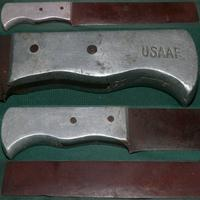knife: (8, 110, 196, 153), (1, 159, 197, 196), (1, 2, 197, 25)
